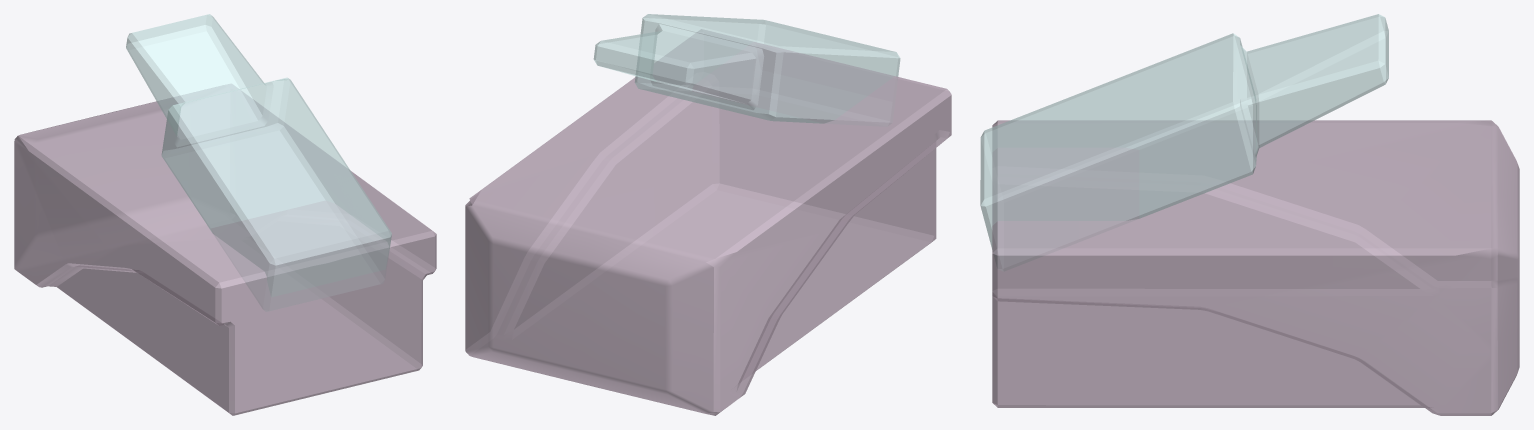
The model's file is Cable_Grab_1.fbx.
3 views of the same model, side by side, from view 1: azimuth 30°, elevation 25°; view 2: azimuth 150°, elevation 25°; view 3: azimuth 270°, elevation 25° (orthographic). The views are drawn at different scales.
Visible parts, largest first — view 1: pCube4; view 2: pCube4; view 3: pCube4.
Part boxes in pixels (box(x1,y1,x2,y2)): pCube4: box(14, 14, 436, 415); pCube4: box(465, 14, 951, 415); pCube4: box(980, 14, 1519, 415).
Size of the model in its own units: 1.35 by 1.49 by 2.31.
